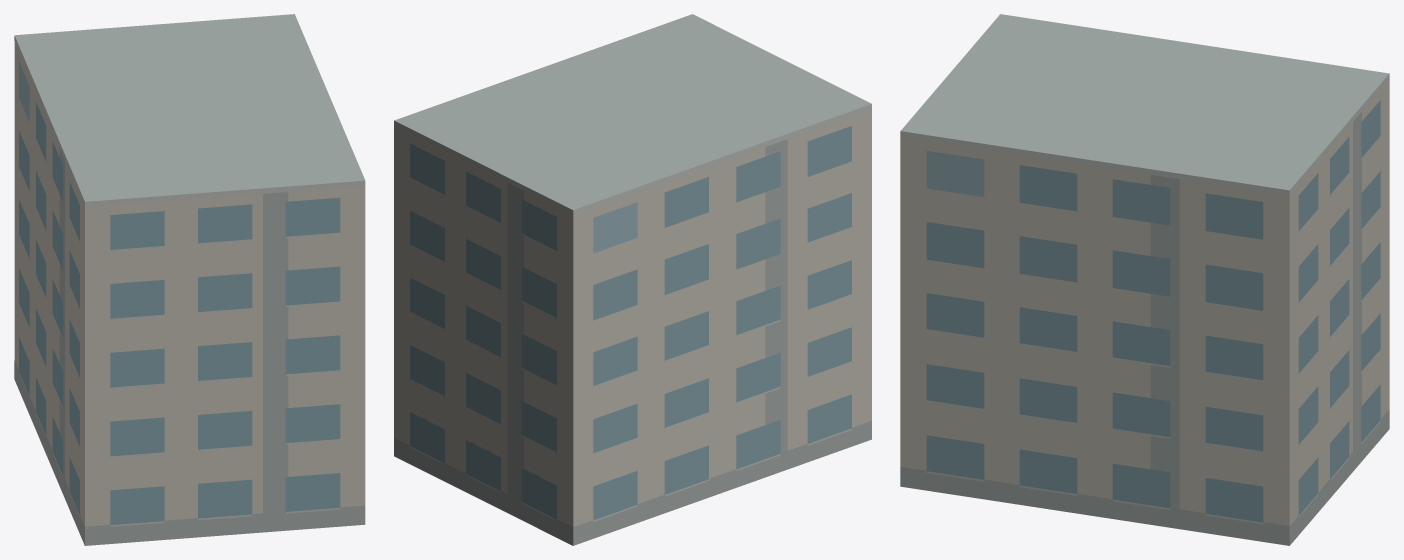
Rendered from residential-8add6a5a-a818-4374-aacb-3c45753dbc0b.glb.
The picture shows the model from 3 angles, left to right: view 1: azimuth 30°, elevation 25°; view 2: azimuth 150°, elevation 25°; view 3: azimuth 270°, elevation 25°; orthographic projection. The views are drawn at different scales.
Parts seen in each view (by area): view 1: residential-8add6a5a-a818-4374-aacb-3c45753dbc0b.tmp; view 2: residential-8add6a5a-a818-4374-aacb-3c45753dbc0b.tmp; view 3: residential-8add6a5a-a818-4374-aacb-3c45753dbc0b.tmp.
Boxes of the visible parts, x1=… form: residential-8add6a5a-a818-4374-aacb-3c45753dbc0b.tmp: x1=14, y1=14, x2=365, y2=545; residential-8add6a5a-a818-4374-aacb-3c45753dbc0b.tmp: x1=394, y1=14, x2=871, y2=545; residential-8add6a5a-a818-4374-aacb-3c45753dbc0b.tmp: x1=900, y1=14, x2=1389, y2=545.
Bounding box in the file's own units: 16.23 × 15.25 × 19.02.
